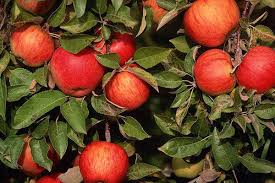2: (168, 142, 205, 179)
Apple: (51, 43, 104, 98), (184, 0, 243, 48), (77, 139, 130, 183), (105, 62, 151, 112), (193, 48, 238, 98), (8, 22, 56, 67), (238, 43, 275, 97), (90, 23, 135, 62), (16, 135, 50, 172), (143, 0, 182, 26), (15, 0, 55, 16), (36, 169, 71, 183)
